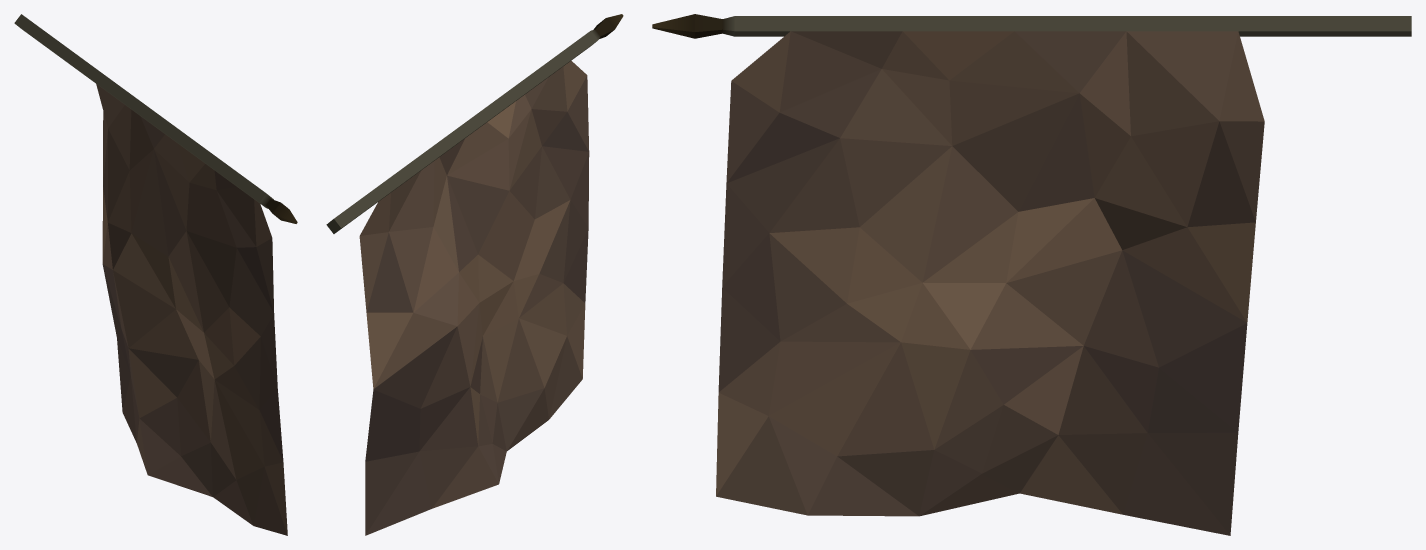
The model's file is Prop_OverhangE.fbx.
3 views of the same model, side by side, from view 1: azimuth 30°, elevation 25°; view 2: azimuth 150°, elevation 25°; view 3: azimuth 270°, elevation 25° (orthographic). The views are drawn at different scales.
Visible parts, largest first — view 1: Prop_OverhangE; view 2: Prop_OverhangE; view 3: Prop_OverhangE.
Part boxes in pixels (bbox=[...]): Prop_OverhangE: bbox=[14, 14, 297, 535]; Prop_OverhangE: bbox=[326, 14, 623, 535]; Prop_OverhangE: bbox=[652, 14, 1411, 535].
Size of the model in its own units: 35.8 by 241 by 333.
